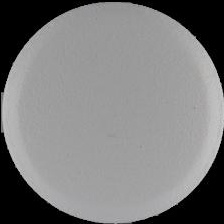61786-404: (0, 0, 224, 224)
